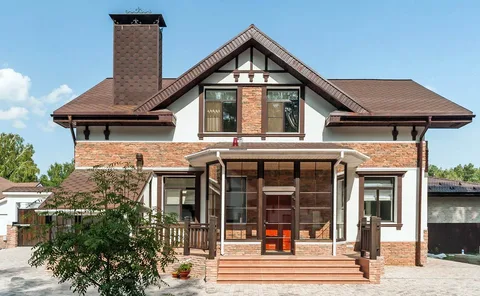private_hause: (57, 10, 442, 280)
